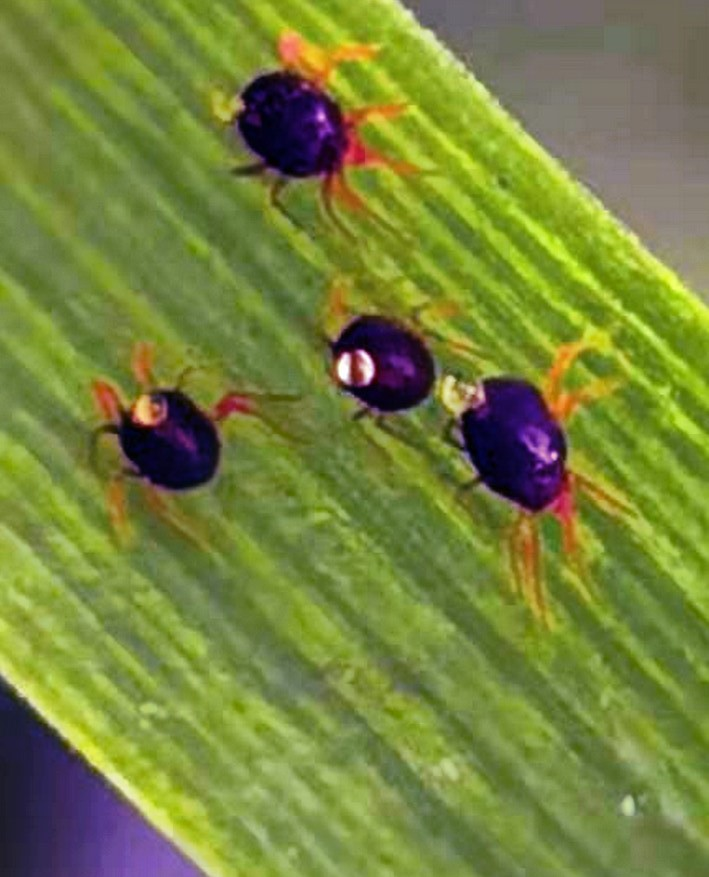Wheat Red Spider: (192, 10, 455, 258), (58, 327, 307, 567)
